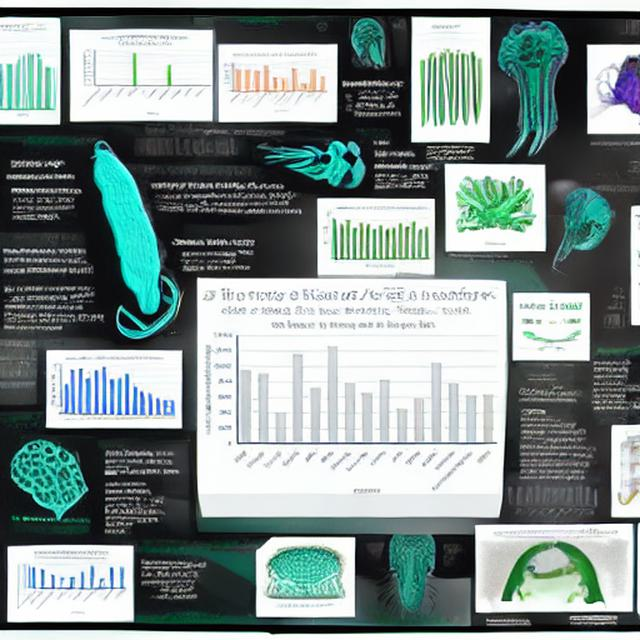Graph: (202, 319, 502, 497), (79, 33, 211, 118), (48, 353, 179, 427), (13, 548, 130, 616), (319, 203, 433, 270), (219, 49, 330, 116), (503, 468, 602, 525)
